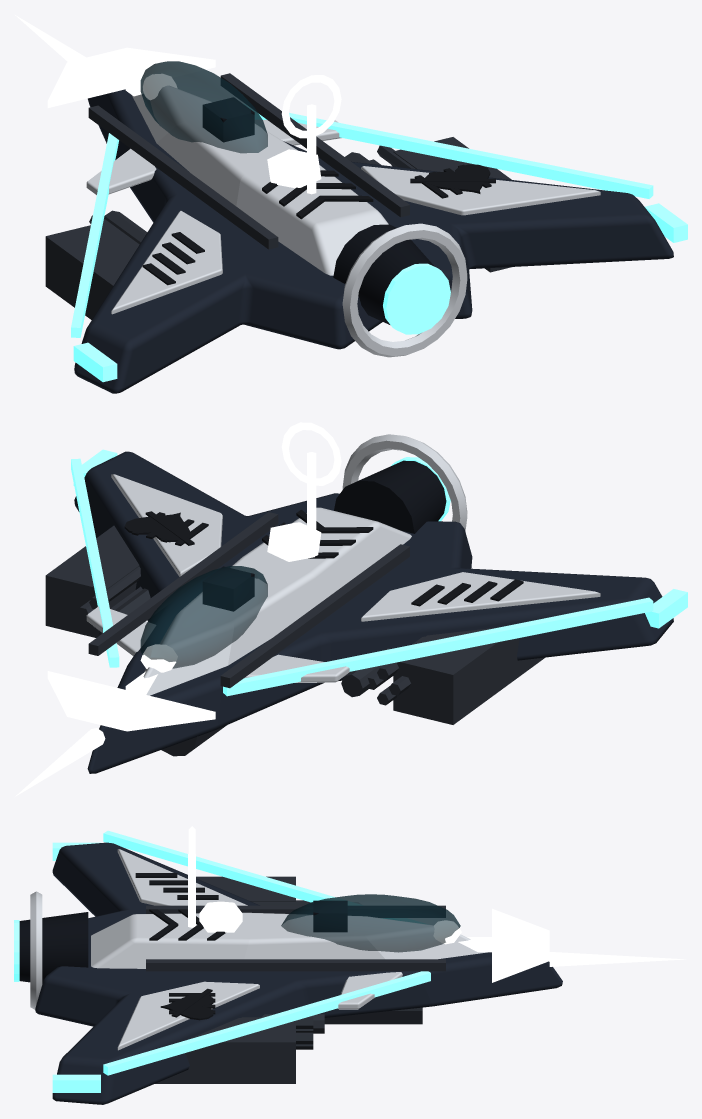
The model's file is pilot_ship.glb.
3 views of the same model, one above another, from view 1: azimuth 30°, elevation 25°; view 2: azimuth 150°, elevation 25°; view 3: azimuth 270°, elevation 25° (orthographic). The views are drawn at different scales.
Parts seen in each view (by area): view 1: ship_hull, ship_spine, ship_trim, ship_wing_plates, ship_canopy, weapon_notary, weapon_injunction, ship_thrust_ring_mesh, sensor_surveyor, engine, ship_nozzle, ship_canards (+9 smaller); view 2: ship_hull, ship_spine, weapon_injunction, ship_trim, ship_wing_plates, ship_canopy, weapon_notary, ship_nozzle, sensor_surveyor, ship_thrust_ring_mesh, ship_canards, sensor_archivist (+10 smaller); view 3: ship_hull, ship_spine, ship_trim, ship_canopy, weapon_injunction, weapon_notary, ship_wing_plates, ship_nozzle, sensor_surveyor, ship_thrust_ring_mesh, weapon_magistrate, ship_core_gem (+10 smaller).
Part boxes in pixels (left/top/right/bottom): ship_hull: left=74, top=89, right=673, bottom=393; ship_spine: left=132, top=85, right=388, bottom=275; ship_trim: left=71, top=104, right=687, bottom=382; ship_wing_plates: left=111, top=166, right=600, bottom=314; ship_canopy: left=140, top=61, right=267, bottom=153; weapon_notary: left=88, top=73, right=409, bottom=249; weapon_injunction: left=45, top=137, right=511, bottom=319; ship_thrust_ring_mesh: left=342, top=223, right=467, bottom=357; sensor_surveyor: left=47, top=47, right=215, bottom=107; engine: left=383, top=263, right=450, bottom=334; ship_nozzle: left=333, top=224, right=434, bottom=324; ship_canards: left=86, top=120, right=341, bottom=194; ship_hull: left=74, top=451, right=673, bottom=773; ship_spine: left=143, top=507, right=411, bottom=695; weapon_injunction: left=45, top=525, right=544, bottom=724; ship_trim: left=71, top=449, right=687, bottom=696; ship_wing_plates: left=111, top=474, right=600, bottom=621; ship_canopy: left=140, top=566, right=267, bottom=668; weapon_notary: left=88, top=512, right=409, bottom=688; ship_nozzle: left=334, top=460, right=446, bottom=533; sensor_surveyor: left=47, top=671, right=215, bottom=731; ship_thrust_ring_mesh: left=342, top=434, right=467, bottom=531; ship_canards: left=86, top=606, right=349, bottom=682; sensor_archivist: left=281, top=422, right=341, bottom=529; ship_hull: left=35, top=842, right=562, bottom=1104; ship_spine: left=91, top=912, right=487, bottom=968; ship_trim: left=52, top=830, right=430, bottom=1092; ship_canopy: left=281, top=894, right=460, bottom=952; weapon_injunction: left=155, top=876, right=295, bottom=1083; weapon_notary: left=146, top=905, right=445, bottom=971; ship_wing_plates: left=117, top=849, right=259, bottom=1050; ship_nozzle: left=19, top=912, right=88, bottom=983; sensor_surveyor: left=458, top=908, right=549, bottom=982; ship_thrust_ring_mesh: left=30, top=891, right=42, bottom=1009; weapon_magistrate: left=324, top=1007, right=422, bottom=1024; ship_core_gem: left=199, top=901, right=242, bottom=932.
Bounding box in the file's own units: 4.88 × 1.85 × 5.84.
